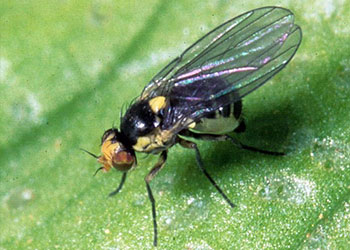Trifoli: (92, 3, 308, 238)
